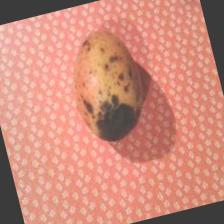Mango Overripe: (58, 20, 152, 149)
